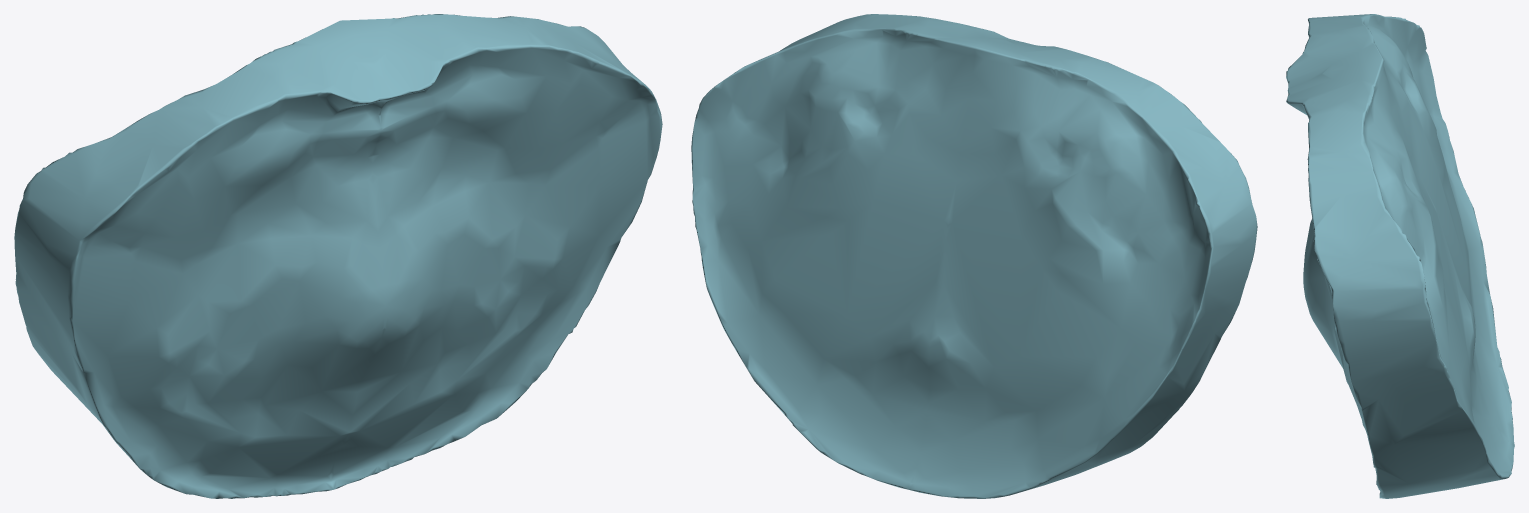
The picture shows the model from 3 angles, left to right: view 1: azimuth 30°, elevation 25°; view 2: azimuth 150°, elevation 25°; view 3: azimuth 270°, elevation 25°; orthographic projection. The views are drawn at different scales.
Parts seen in each view (by area): view 1: 腰4—腰5椎间盘; view 2: 腰4—腰5椎间盘; view 3: 腰4—腰5椎间盘.
Part boxes in pixels (x1,y1,x2,y2): 腰4—腰5椎间盘: (14,14,662,498); 腰4—腰5椎间盘: (691,14,1257,498); 腰4—腰5椎间盘: (1286,14,1514,498).
Size of the model in its own units: 0.0747 by 0.0571 by 0.0289.
